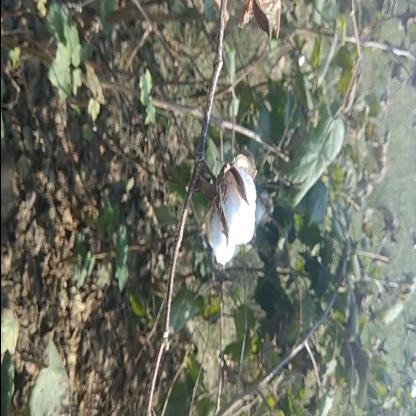cotton_ready: (178, 152, 268, 272)
